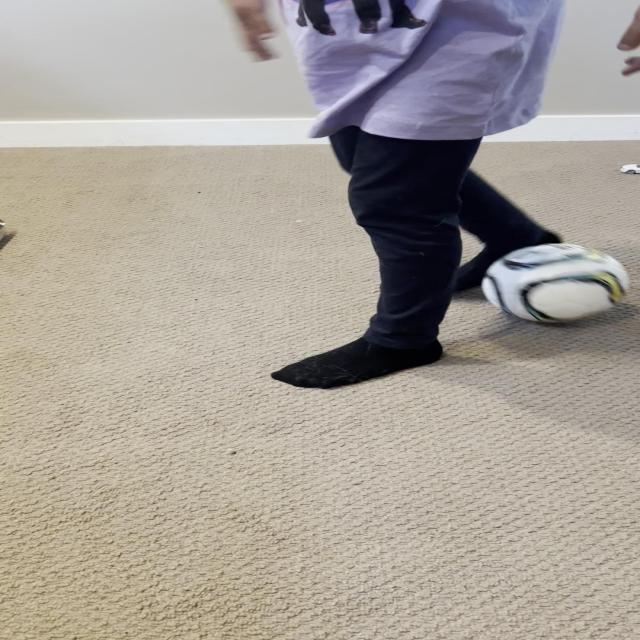Soccer Ball: (480, 243, 630, 324)
